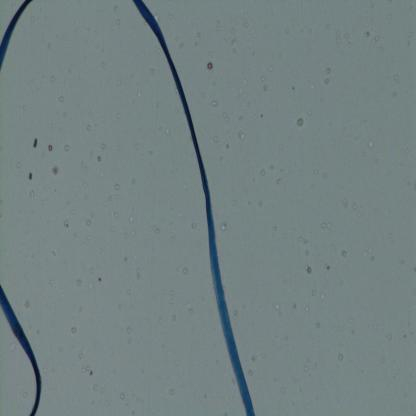Background material: (80, 366, 94, 375), (8, 340, 17, 354), (220, 222, 228, 234), (52, 162, 60, 174), (32, 134, 38, 149), (240, 19, 250, 28), (83, 233, 92, 243), (304, 265, 312, 276), (296, 117, 304, 128), (80, 160, 87, 172), (164, 125, 171, 137), (84, 122, 93, 131), (153, 12, 161, 22), (238, 130, 246, 140), (233, 307, 238, 323), (135, 269, 142, 280), (213, 134, 221, 143), (189, 219, 197, 228), (222, 112, 229, 122), (210, 99, 218, 107), (336, 354, 344, 362), (74, 279, 82, 287), (207, 61, 214, 70), (365, 246, 374, 253), (63, 219, 70, 228), (224, 139, 230, 149), (28, 170, 34, 180), (230, 37, 237, 45), (111, 4, 118, 12), (372, 36, 379, 44), (179, 42, 186, 50), (386, 332, 393, 340), (368, 140, 374, 149), (284, 26, 290, 35), (181, 267, 188, 274), (342, 267, 349, 274), (84, 219, 91, 226), (70, 326, 76, 334), (325, 66, 331, 74), (324, 77, 330, 85), (77, 306, 83, 314), (318, 292, 324, 300), (100, 142, 106, 150), (47, 144, 53, 152), (169, 389, 175, 396), (276, 178, 282, 185), (216, 24, 222, 31), (64, 144, 71, 150), (260, 75, 266, 82), (217, 156, 224, 162), (59, 95, 65, 102), (323, 172, 329, 179), (342, 250, 348, 257), (170, 235, 176, 242), (147, 149, 153, 156), (170, 315, 176, 322), (115, 182, 120, 190), (263, 84, 268, 92), (252, 354, 257, 362), (114, 210, 119, 218), (30, 189, 35, 197), (46, 42, 52, 48), (128, 72, 134, 78), (378, 46, 384, 52), (364, 32, 370, 38), (304, 238, 310, 244), (326, 24, 332, 30), (260, 170, 266, 176), (271, 224, 277, 230), (268, 65, 274, 71), (352, 203, 358, 209), (308, 106, 312, 115), (157, 318, 163, 324), (109, 225, 115, 231), (129, 216, 134, 223), (116, 18, 121, 25), (269, 163, 274, 170), (336, 36, 340, 44), (25, 300, 29, 308), (94, 384, 98, 392), (134, 142, 138, 150), (137, 90, 141, 98), (275, 304, 280, 310), (320, 222, 326, 227), (103, 265, 108, 271), (78, 353, 83, 359), (305, 306, 310, 312), (243, 78, 248, 84), (282, 234, 288, 239), (59, 346, 64, 352), (188, 308, 193, 314), (298, 237, 304, 242), (131, 178, 136, 184), (89, 267, 94, 273), (150, 68, 155, 74), (349, 317, 354, 323), (154, 228, 159, 234), (90, 212, 94, 219), (344, 201, 348, 208), (97, 155, 101, 162), (312, 289, 316, 296), (194, 39, 198, 46), (24, 391, 28, 398), (197, 30, 201, 37), (130, 229, 134, 236), (127, 328, 131, 335), (52, 251, 57, 256), (365, 12, 370, 17), (168, 15, 173, 20), (119, 394, 124, 399), (42, 368, 47, 373), (97, 277, 102, 282), (344, 33, 349, 38), (248, 371, 253, 376), (409, 330, 414, 335), (126, 289, 131, 294), (127, 339, 132, 344), (304, 366, 308, 372), (116, 78, 120, 84), (99, 248, 103, 254), (62, 112, 66, 118), (170, 297, 173, 305), (262, 352, 266, 358), (408, 30, 412, 36), (292, 303, 296, 309), (294, 379, 298, 385), (395, 75, 399, 81), (248, 200, 252, 206), (278, 311, 282, 317), (50, 76, 54, 82), (306, 250, 310, 256), (327, 223, 331, 229), (412, 288, 416, 294), (308, 74, 312, 80), (402, 332, 406, 338), (49, 278, 53, 284), (36, 330, 40, 336), (16, 161, 20, 167), (316, 322, 320, 328), (100, 386, 103, 393), (259, 201, 263, 206), (73, 232, 78, 236), (280, 387, 284, 392), (125, 401, 129, 406), (352, 330, 356, 335), (156, 103, 160, 108), (388, 233, 392, 238), (375, 159, 379, 164), (209, 52, 213, 57), (292, 229, 296, 234), (251, 51, 255, 56), (387, 14, 391, 19), (117, 113, 121, 118), (396, 370, 400, 375), (400, 259, 404, 264), (94, 342, 98, 347), (310, 334, 314, 339), (137, 128, 141, 133), (370, 2, 373, 8), (358, 212, 361, 218), (170, 290, 173, 296), (407, 41, 410, 47), (125, 232, 128, 238), (375, 324, 378, 330), (382, 358, 385, 364), (107, 78, 110, 84), (381, 323, 384, 329), (132, 411, 136, 415), (273, 376, 277, 380), (226, 252, 230, 256), (232, 201, 236, 205), (393, 92, 397, 96), (88, 112, 92, 116), (128, 188, 132, 192), (405, 182, 410, 185), (225, 411, 228, 416), (371, 256, 374, 261), (328, 266, 331, 271), (204, 394, 207, 399), (306, 358, 309, 363), (124, 257, 127, 262), (118, 304, 121, 309), (175, 360, 178, 364), (405, 148, 408, 152), (244, 278, 247, 282), (260, 115, 264, 118), (362, 153, 366, 156), (254, 115, 257, 119), (292, 86, 295, 90), (254, 34, 257, 38), (279, 54, 282, 58), (413, 268, 416, 272), (314, 170, 317, 173), (398, 83, 401, 86), (312, 173, 314, 177), (299, 172, 302, 174), (335, 329, 337, 331)
Cotton: (132, 0, 256, 416), (0, 274, 42, 416), (0, 0, 32, 72)
